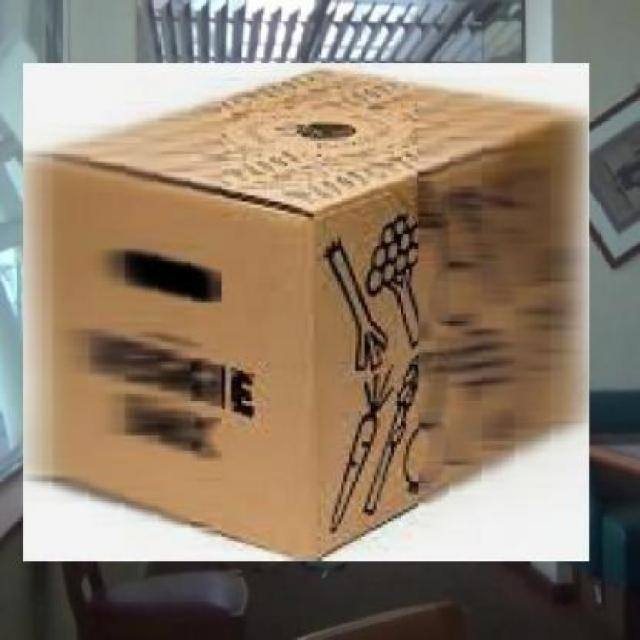box: (15, 56, 599, 570)
